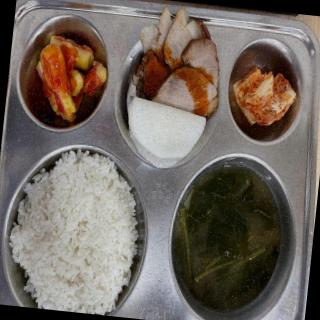Nasi: (1, 150, 150, 319)
